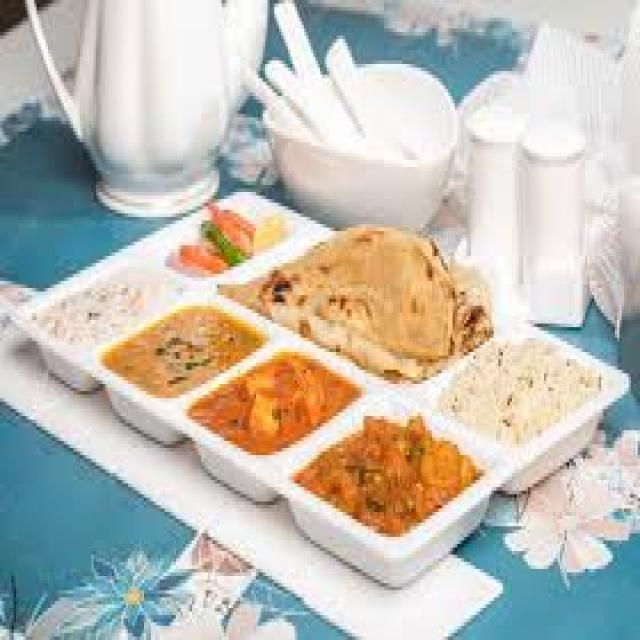papad: (443, 335, 592, 452)
roti: (279, 213, 489, 399)
sambar-rasam: (82, 282, 280, 421), (157, 181, 290, 295)
veg-fry: (191, 320, 367, 480), (297, 408, 478, 550)
